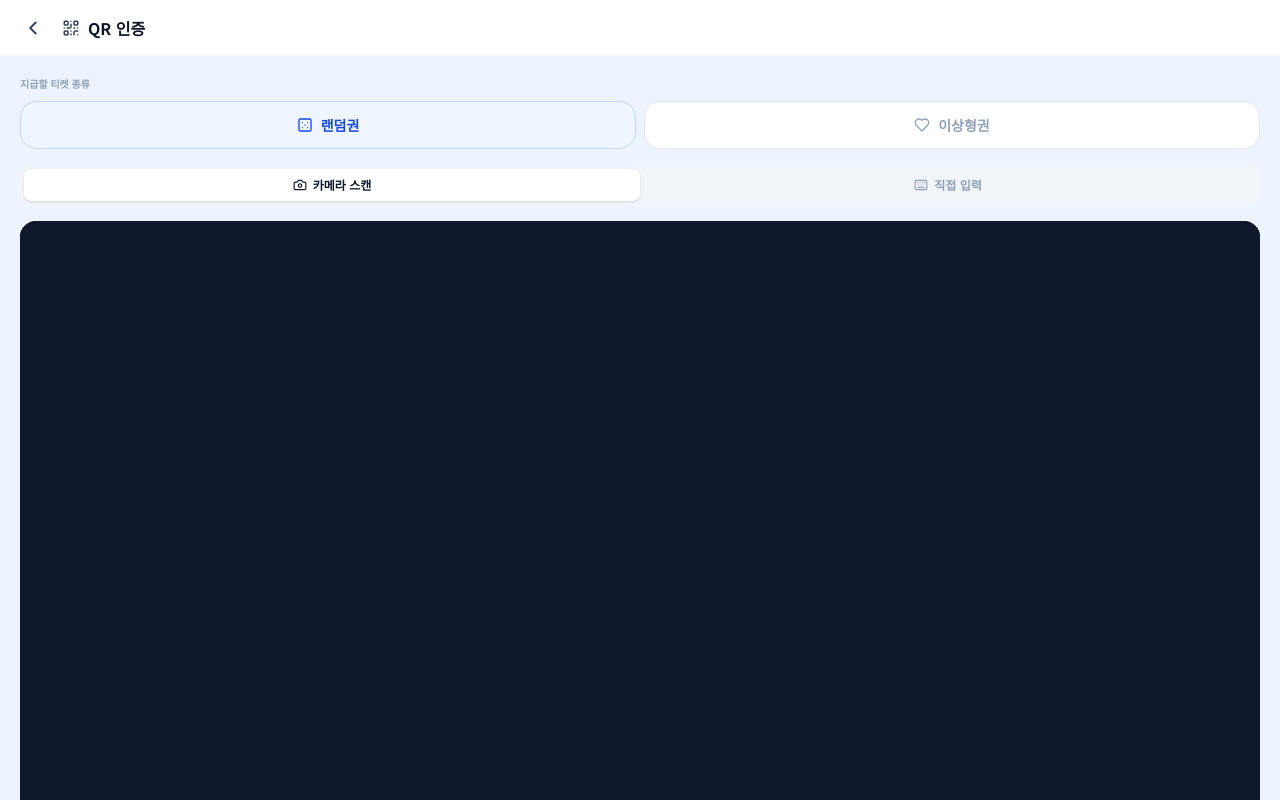
Test case: AdminQrPage › 직접 입력 모드로 전환하면 입력 필드가 표시됨
This screenshot has width=1280, height=800.
Click the button "직접 입력".
click(948, 185)  # box [640,169,1256,201]
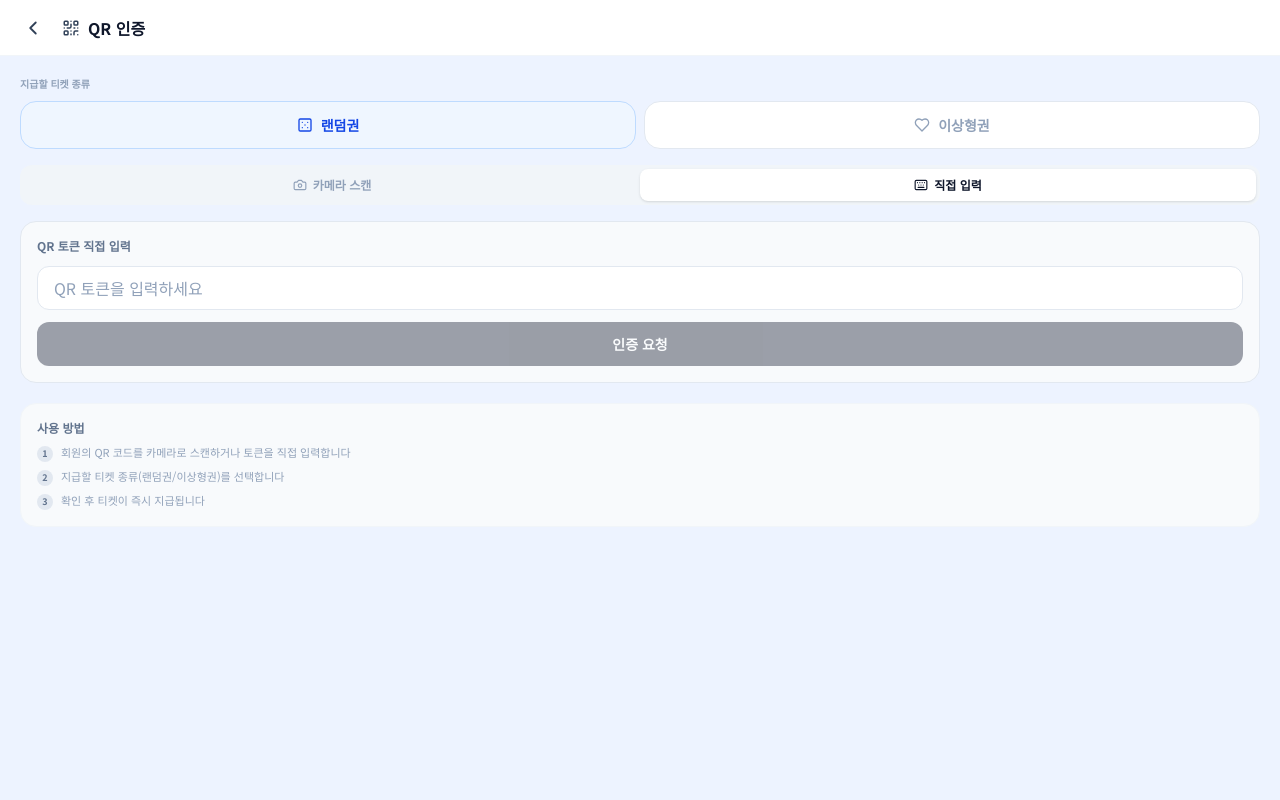
Expected: the field with placeholder "QR 토큰을 입력하세요" is shown, [37,266,1243,310]
